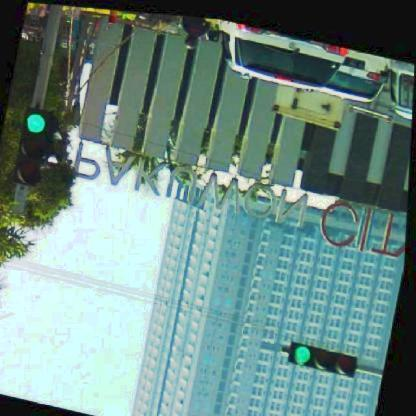Traffic Light -Green-: (14, 104, 53, 187), (290, 335, 362, 370)
